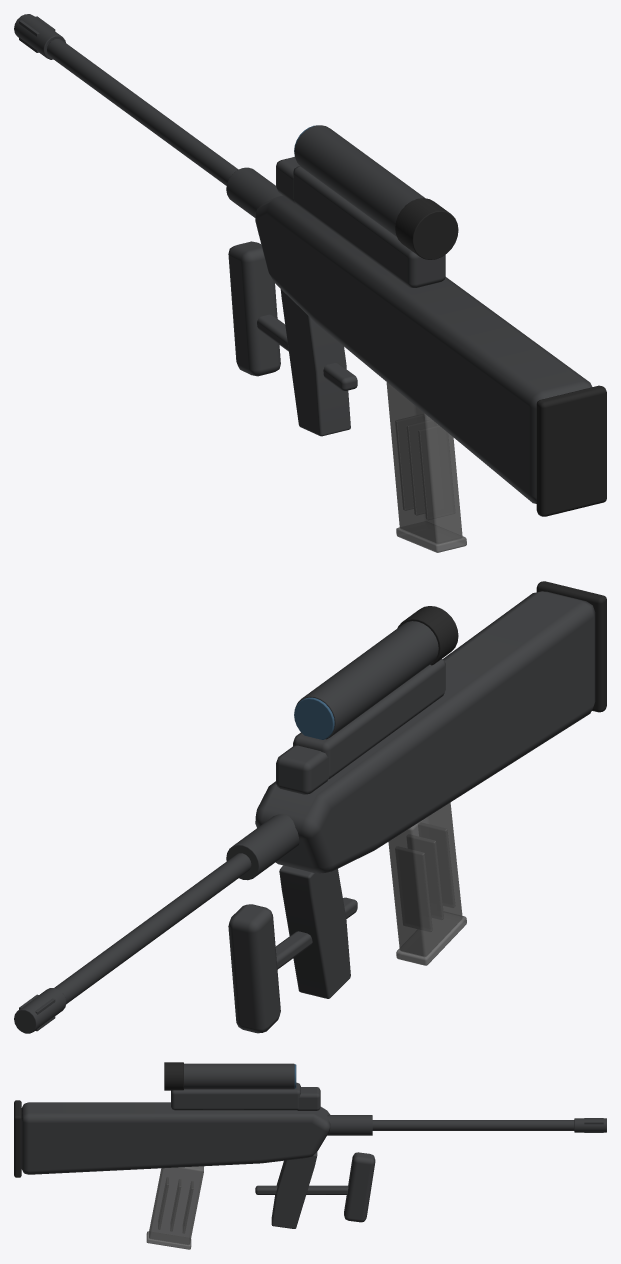
The model's file is aug.glb.
The picture shows the model from 3 angles, top to bottom: view 1: azimuth 30°, elevation 25°; view 2: azimuth 150°, elevation 25°; view 3: azimuth 270°, elevation 25°; orthographic projection. The views are drawn at different scales.
Parts seen in each view (by area): view 1: Stock, Buttpad, Mag_body, OpticTube, OpticHousing, Grip, Foregrip, Barrel, OpticEye, Mag_body_rib0, BarrelShroud, Mag_body_base (+5 smaller); view 2: Stock, Mag_body, Grip, OpticTube, Foregrip, OpticHousing, Barrel, BarrelShroud, Mag_body_rib2, OpticFront, Buttpad, Mag_body_base (+6 smaller); view 3: Stock, Mag_body, OpticTube, OpticHousing, Barrel, Grip, Foregrip, BarrelShroud, TriggerGuardFull, Buttpad, OpticEye, Mag_body_base (+2 smaller).
Boxes of the visible parts, x1,y1,x2,y2 form: Stock: (255,195,592,503); Buttpad: (536,385,606,516); Mag_body: (386,382,462,544); OpticTube: (294,125,424,236); OpticHousing: (293,166,445,287); Grip: (280,289,350,436); Foregrip: (228,241,280,376); Barrel: (47,39,238,185); OpticEye: (395,198,458,259); Mag_body_rib0: (418,425,454,519); BarrelShroud: (226,167,282,217); Mag_body_base: (396,522,466,552); Stock: (255,591,595,873); Mag_body: (388,802,462,956); Grip: (279,865,350,998); OpticTube: (295,621,438,739); Foregrip: (228,904,280,1033); OpticHousing: (293,659,445,779); Barrel: (54,853,251,1004); BarrelShroud: (226,814,299,880); Mag_body_rib2: (395,846,432,931); OpticFront: (276,745,329,794); Buttpad: (536,581,606,712); Mag_body_base: (396,913,466,965); Stock: (21,1102,330,1174); Mag_body: (149,1166,203,1244); OpticTube: (184,1063,294,1089); OpticHousing: (171,1082,300,1110); Barrel: (372,1120,574,1130); Grip: (271,1152,317,1228); Foregrip: (344,1152,375,1222); BarrelShroud: (327,1115,372,1135); TriggerGuardFull: (255,1185,348,1194); Buttpad: (14,1100,21,1177); OpticEye: (164,1062,183,1090); Mag_body_base: (146,1231,191,1249).
Bounding box in the file's own units: 0.064 × 0.3096 × 0.911.
